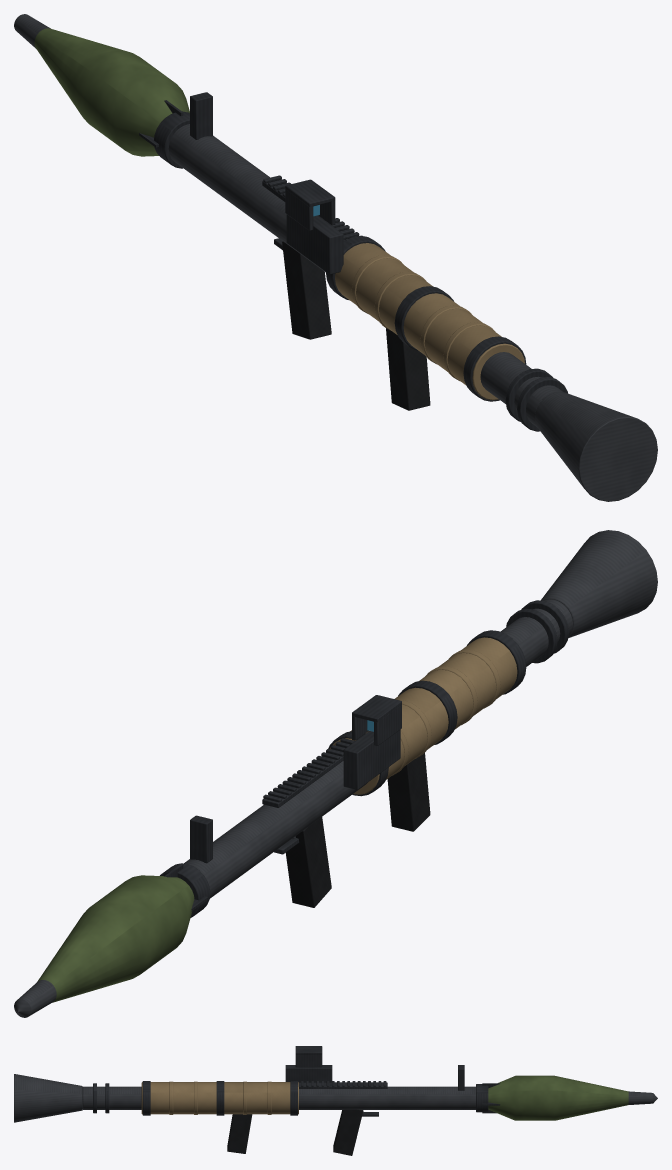
The model's file is WPN_Launcher_RPG7V2.glb.
The picture shows the model from 3 angles, top to bottom: view 1: azimuth 30°, elevation 25°; view 2: azimuth 150°, elevation 25°; view 3: azimuth 270°, elevation 25°; orthographic projection. The views are drawn at different scales.
Visible parts, largest first — view 1: WPN_RPG7_Tube, WPN_RPG7_Warhead; view 2: WPN_RPG7_Tube, WPN_RPG7_Warhead; view 3: WPN_RPG7_Tube, WPN_RPG7_Warhead.
Boxes of the visible parts, x1,y1,x2,y2 form: WPN_RPG7_Tube: [154, 92, 657, 501]; WPN_RPG7_Warhead: [14, 14, 189, 156]; WPN_RPG7_Tube: [160, 530, 657, 917]; WPN_RPG7_Warhead: [14, 864, 208, 1017]; WPN_RPG7_Tube: [14, 1046, 488, 1155]; WPN_RPG7_Warhead: [482, 1075, 657, 1120].
Size of the model in its own units: 0.1083 by 0.2139 by 1.31.
Materials: 6 (6 with a texture image).
